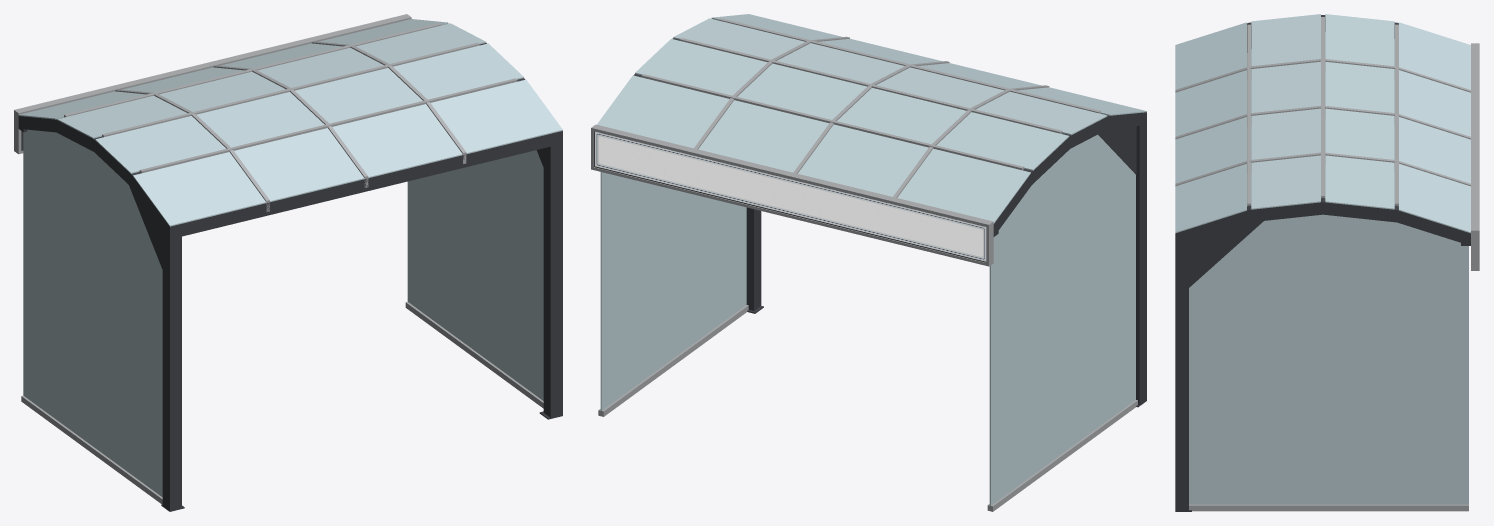
File: gteki_street_canopy_w4500_d3000_cantilever_curved.glb
The picture shows the model from 3 angles, left to right: view 1: azimuth 30°, elevation 25°; view 2: azimuth 150°, elevation 25°; view 3: azimuth 270°, elevation 25°; orthographic projection. The views are drawn at different scales.
Visible parts, largest first — view 1: VIS_body; view 2: VIS_body; view 3: VIS_body.
Boxes of the visible parts, <box> form: VIS_body: <box>14,14,562,511</box>; VIS_body: <box>591,14,1146,511</box>; VIS_body: <box>1175,14,1479,511</box>.
Size of what is drawn, in the model's own units: 4.5 by 3.49 by 3.09.
3 materials, 3 textured.
